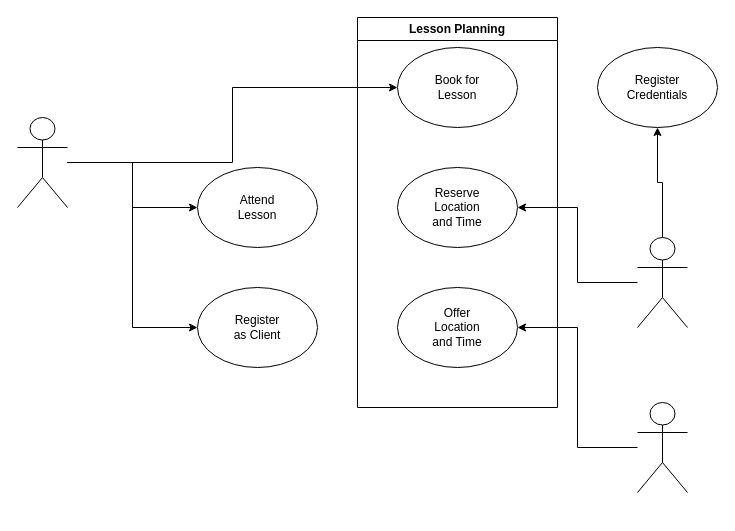
Image size: 735x531. Some labels were removed from this diagram. Each missing label, with the centre of its shape:
"Administrator" goes at point 662,447.
"Client" goes at point 42,162.
"Instructor" goes at point 662,282.
